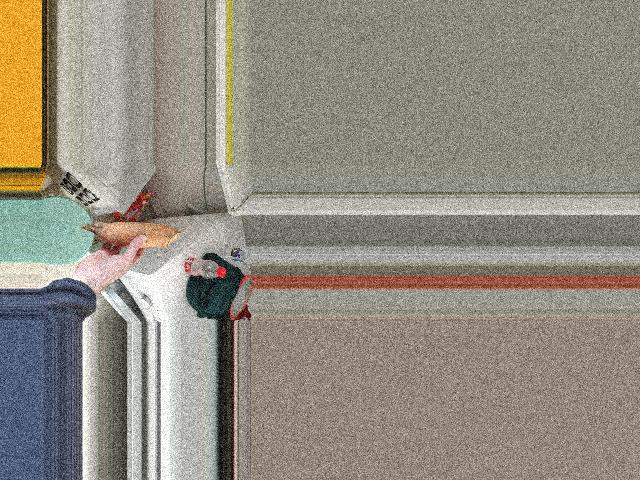sweet_potato: (87, 220, 173, 252)
